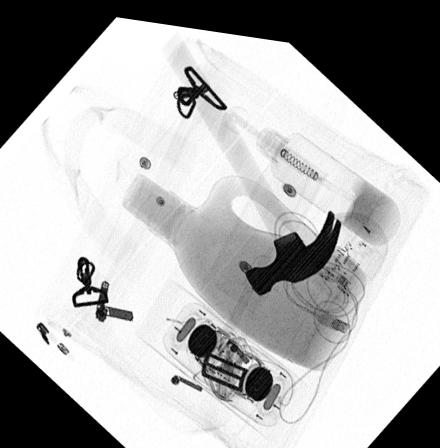Hammer: (160, 24, 344, 288)
